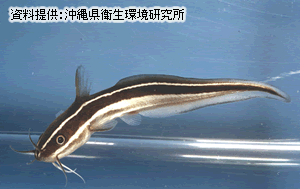gonzui: (23, 64, 300, 168)
